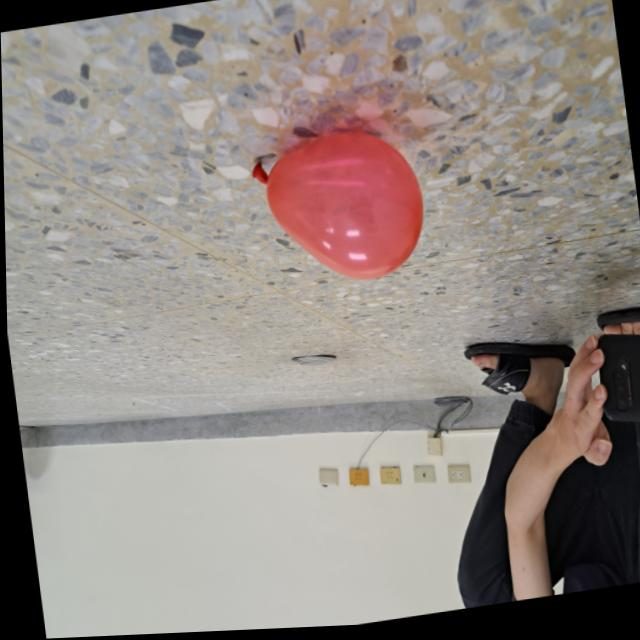red: (244, 123, 430, 301)
